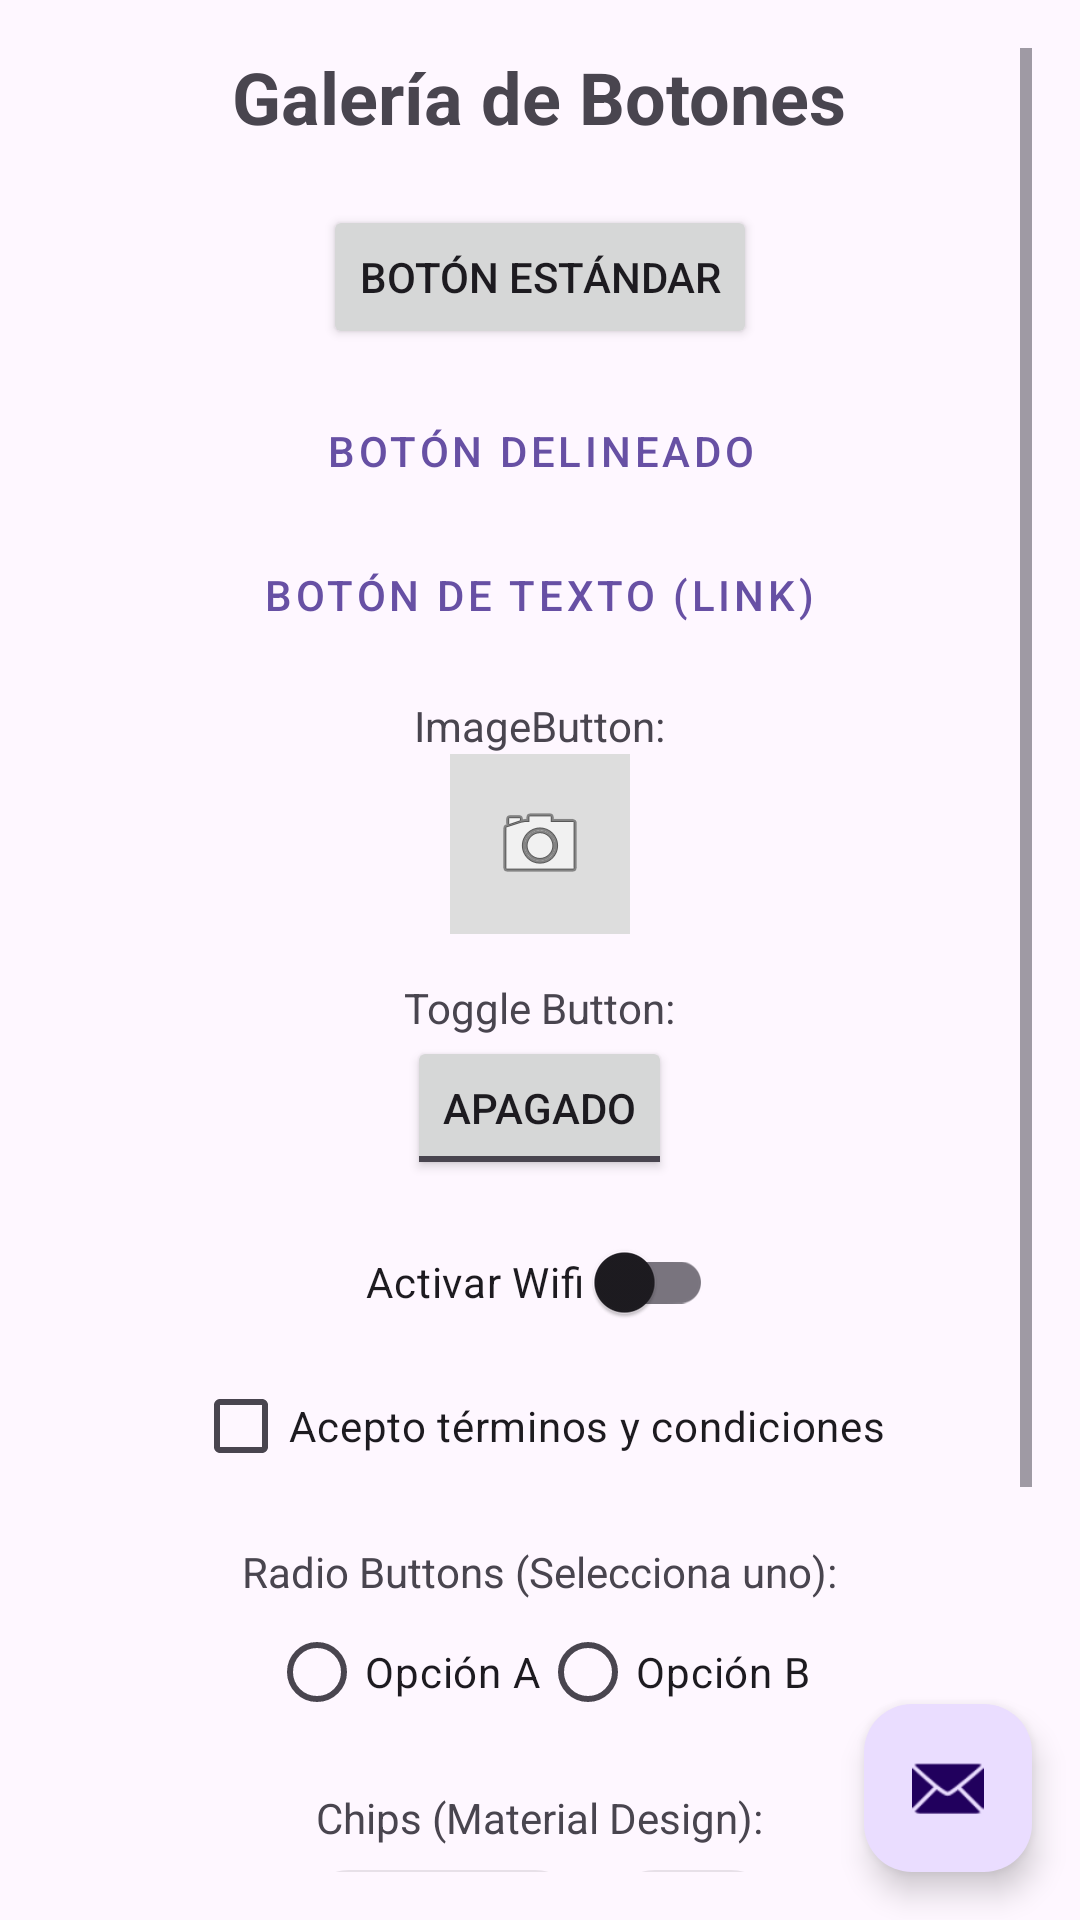

Icon bounding boxes for this 1080px×1920px phone screenshot, format (x1, y1, x2, y2):
Correo: (864, 1704, 1032, 1872)
Cámara: (450, 754, 630, 934)
